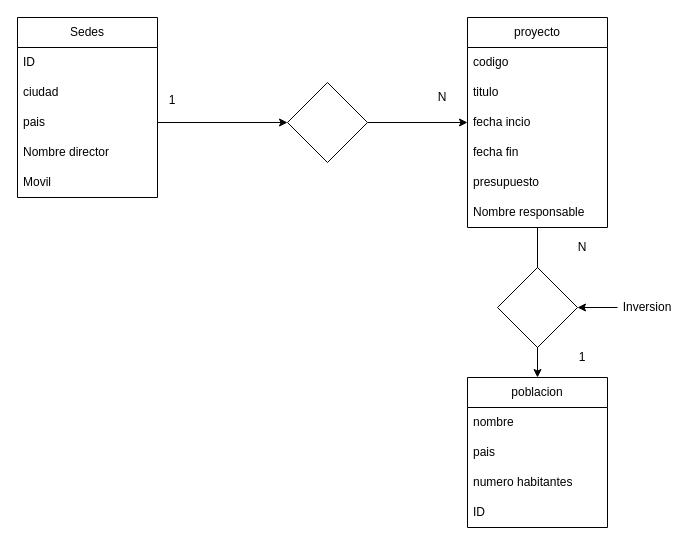
This 695x545 diagram has some shape labels left out. Each missing label, with the centre of its shape:
"actuacion en" goes at point (537, 307).
"Gestionan" goes at point (327, 122).
